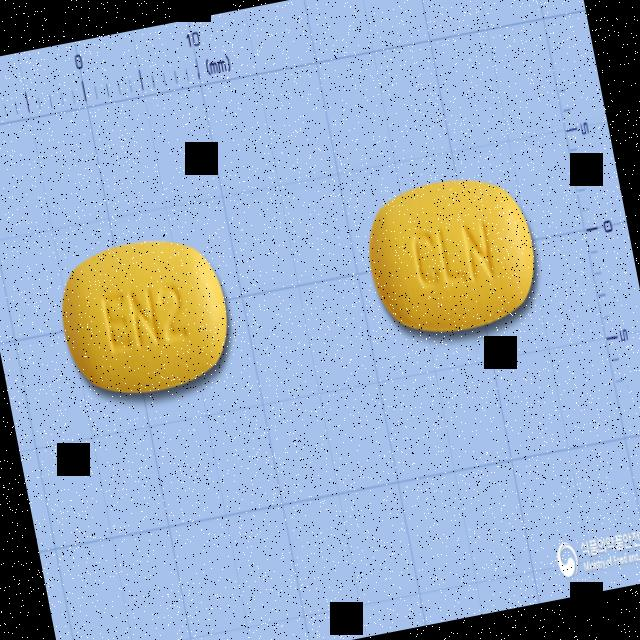Criacin: (49, 226, 240, 407), (358, 167, 548, 346)
